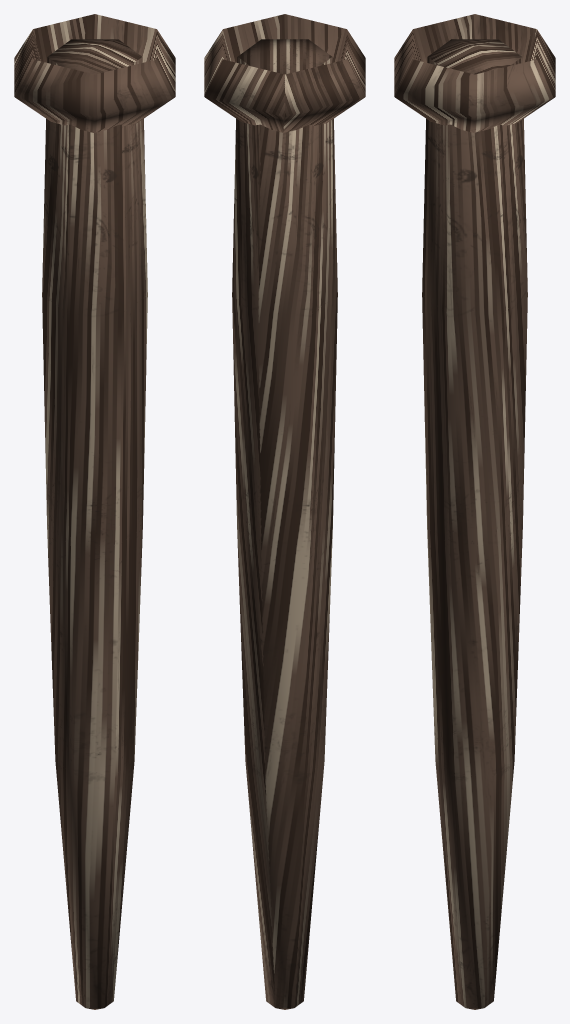
Rendered from Torch.fbx.
The picture shows the model from 3 angles, left to right: view 1: azimuth 30°, elevation 25°; view 2: azimuth 150°, elevation 25°; view 3: azimuth 270°, elevation 25°; orthographic projection.
Visible parts, largest first — view 1: Torch; view 2: Torch; view 3: Torch.
Part boxes in pixels (x1,y1,x2,y2): Torch: [14, 14, 175, 1009]; Torch: [204, 14, 365, 1009]; Torch: [394, 14, 555, 1009].
Bounding box in the file's own units: 34.31 × 196 × 29.72.
